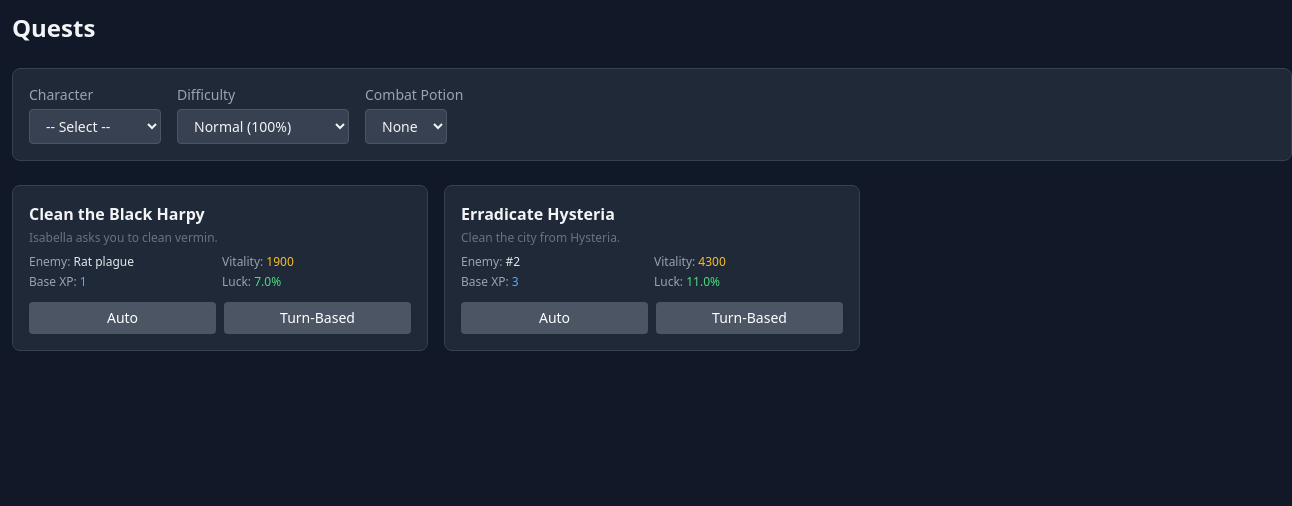
Test: QuestsPage › plays quest and shows result
This screenshot has width=1292, height=506.
Expected: the heading "Clean the Black Harpy" is shown, [29, 203, 205, 225]
Note: Select character
Select "Ragnar (Lv.0)" in the dropdown below "Character". click: [95, 126]
box: [29, 109, 161, 144]
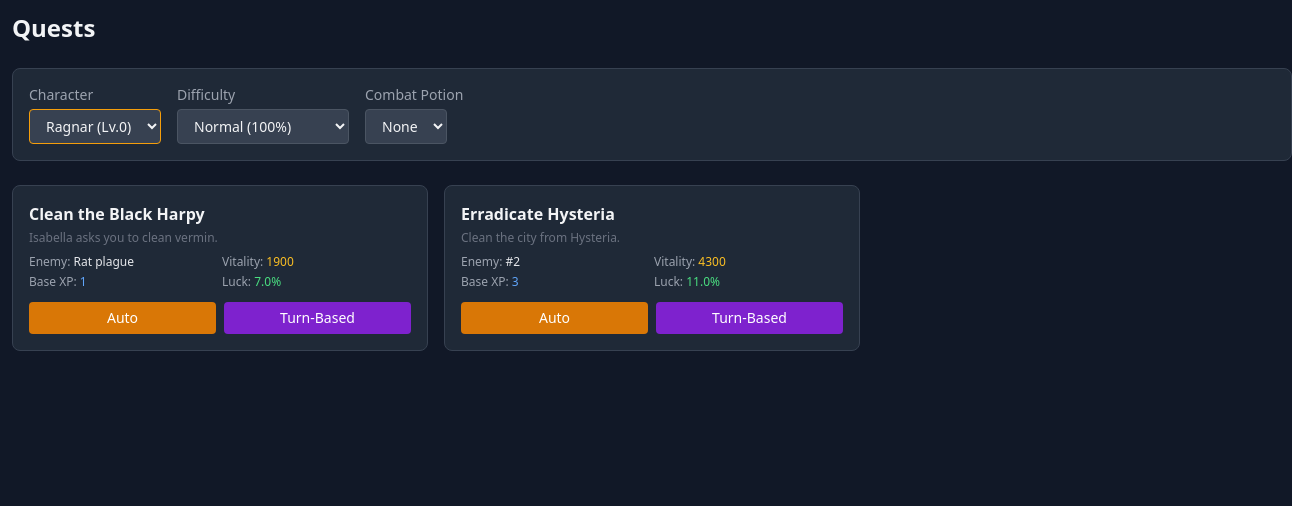
Note: Play first quest
Click the button "Auto" below "7.0". click: [122, 318]
box: [29, 302, 216, 334]
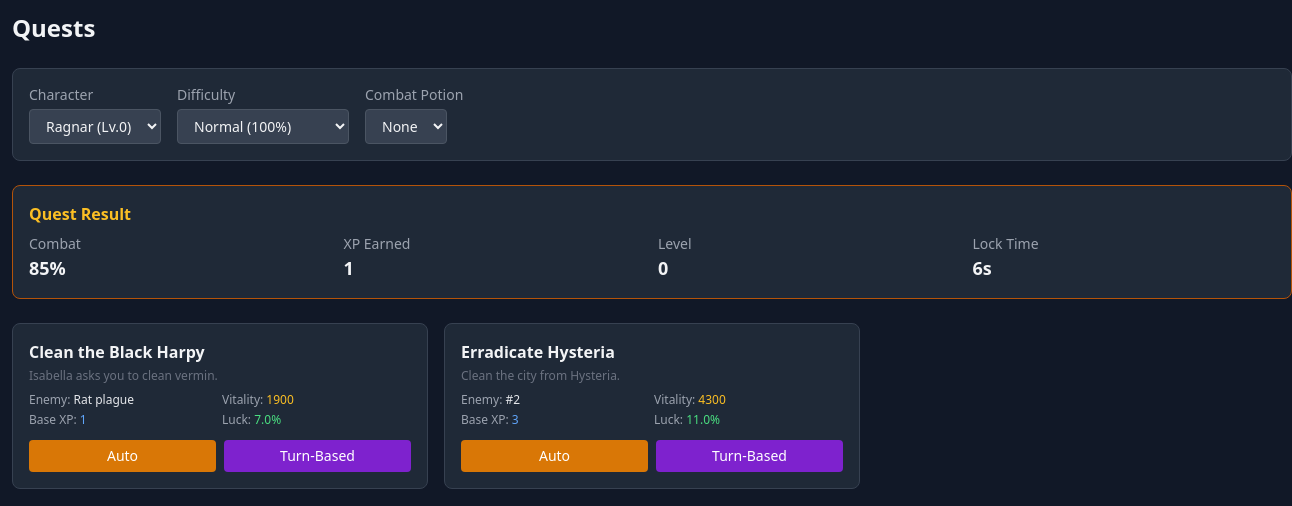
Expected: the heading "Quest Result" is shown, [29, 203, 131, 225]
Expected: the text "85%" is shown, [29, 256, 66, 280]
